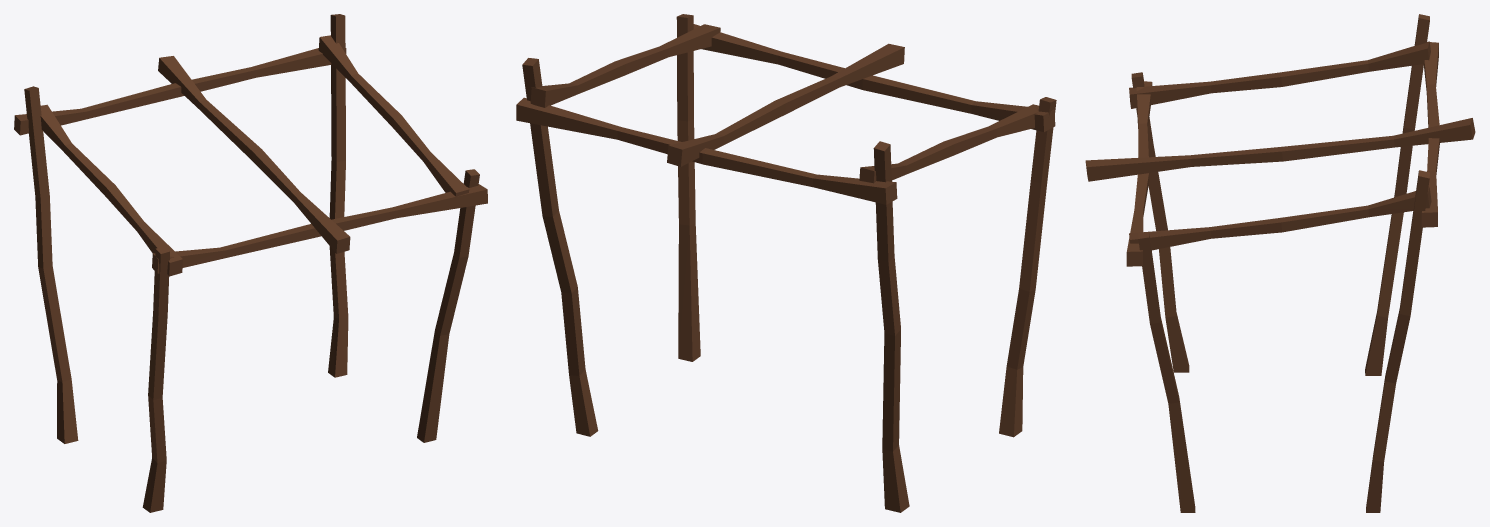
The model's file is SM_Bld_Stall_Cover_05.fbx.
The picture shows the model from 3 angles, left to right: view 1: azimuth 30°, elevation 25°; view 2: azimuth 150°, elevation 25°; view 3: azimuth 270°, elevation 25°; orthographic projection. The views are drawn at different scales.
Visible parts, largest first — view 1: SM_Bld_Stall_Cover_05; view 2: SM_Bld_Stall_Cover_05; view 3: SM_Bld_Stall_Cover_05.
Boxes of the visible parts, bbox=[...] form: SM_Bld_Stall_Cover_05: bbox=[14, 14, 487, 512]; SM_Bld_Stall_Cover_05: bbox=[516, 14, 1056, 512]; SM_Bld_Stall_Cover_05: bbox=[1085, 14, 1475, 512].
Bounding box in the file's own units: 0.03 × 0.0297 × 0.0299.
1 material, 1 textured.
